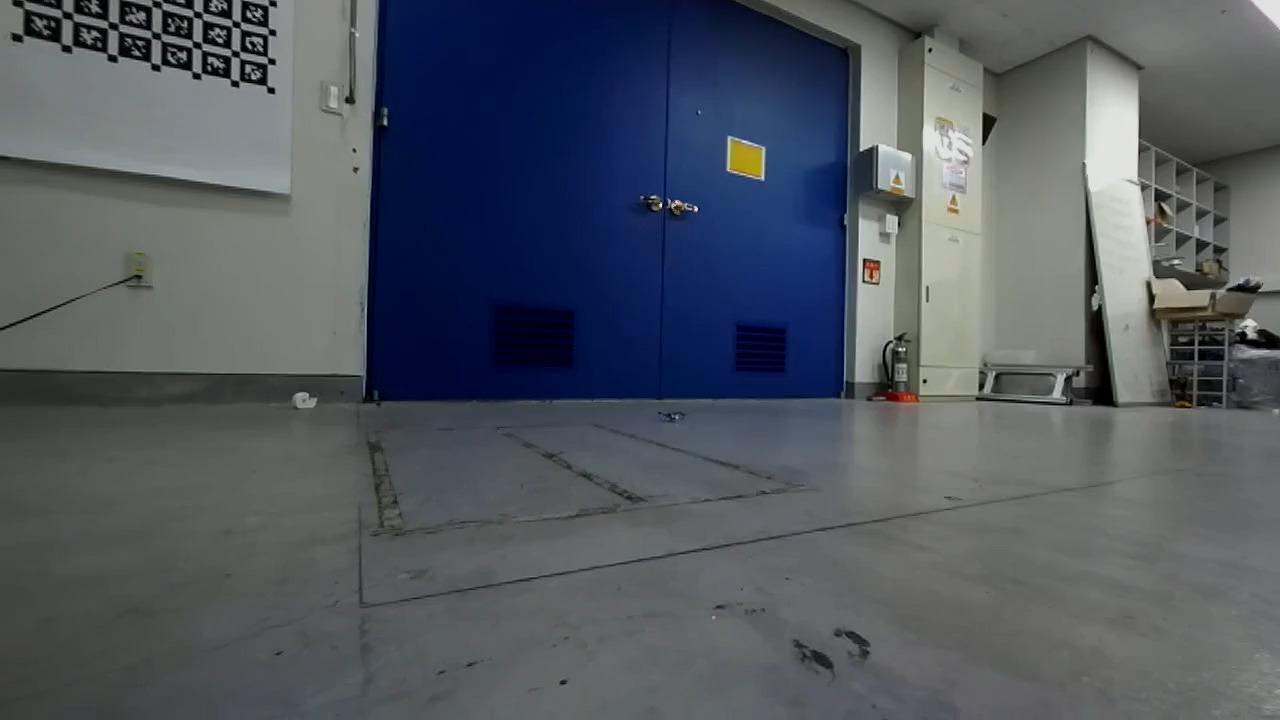crazyflie: (647, 401, 695, 430)
